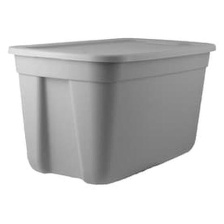plastic_box: (0, 27, 221, 191)
